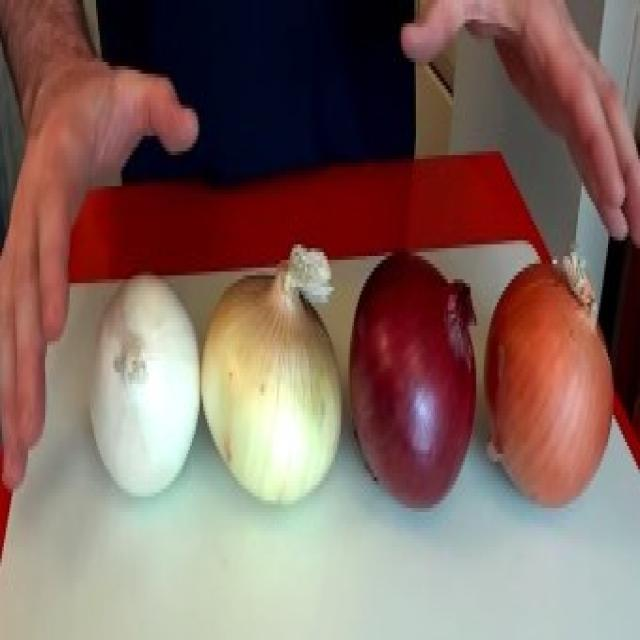onion: (345, 242, 482, 539), (201, 264, 343, 526), (483, 246, 622, 511), (76, 269, 202, 508)
